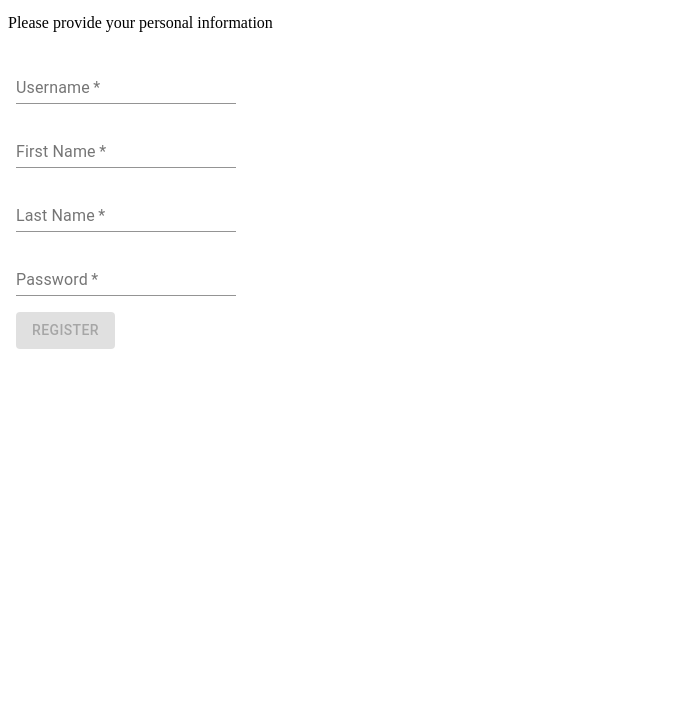
Test: RegisterForm testing › should alert with success
Type "text" into the field labelled "Username *" at (126, 88), box [16, 72, 236, 104]
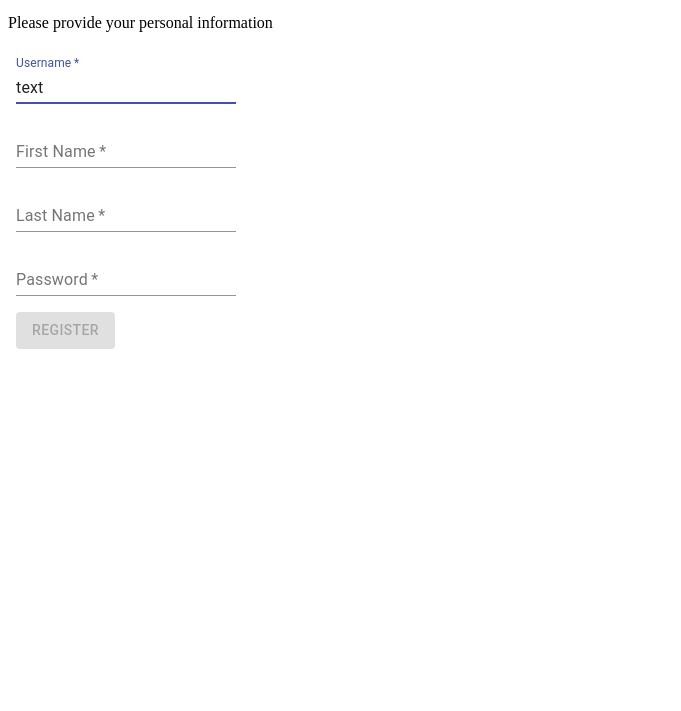
Type "text" into the field labelled "First Name *" at (126, 152), box [16, 136, 236, 168]
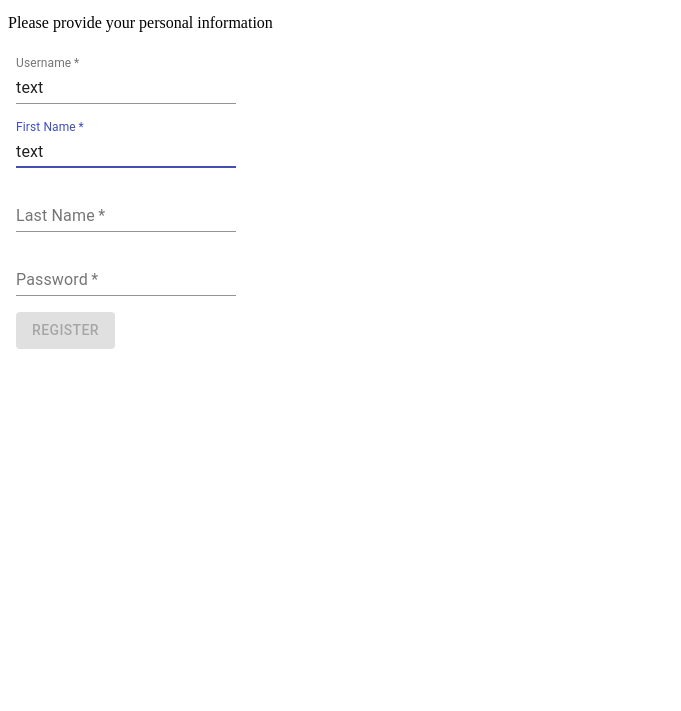
Type "text" into the field labelled "Last Name *" at (126, 216), box [16, 200, 236, 232]
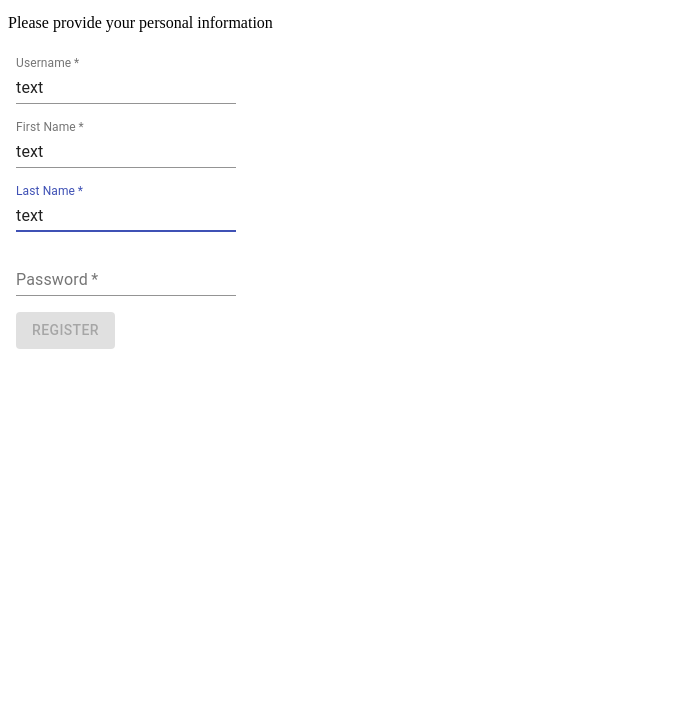
Type "text" into the password field labelled "Password *" at (126, 280), box [16, 264, 236, 296]
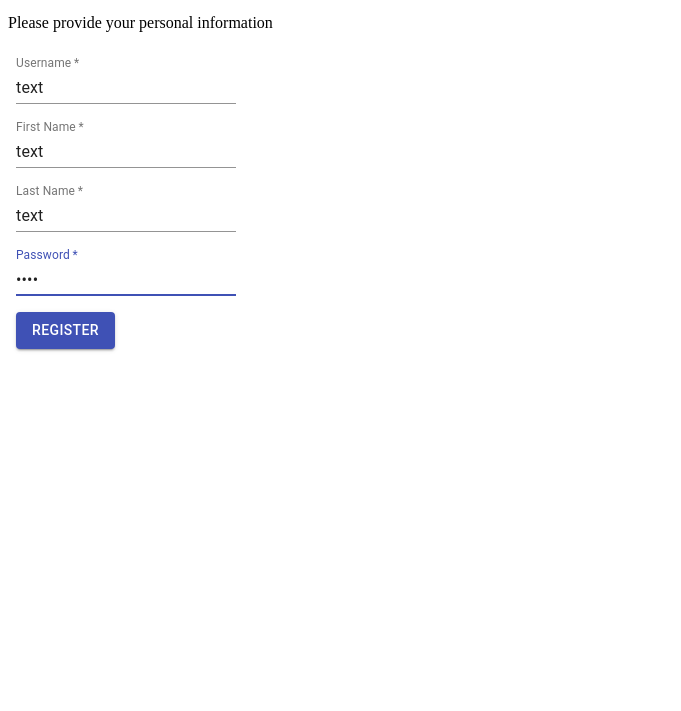
Click the button at (66, 330), box [16, 312, 115, 348]
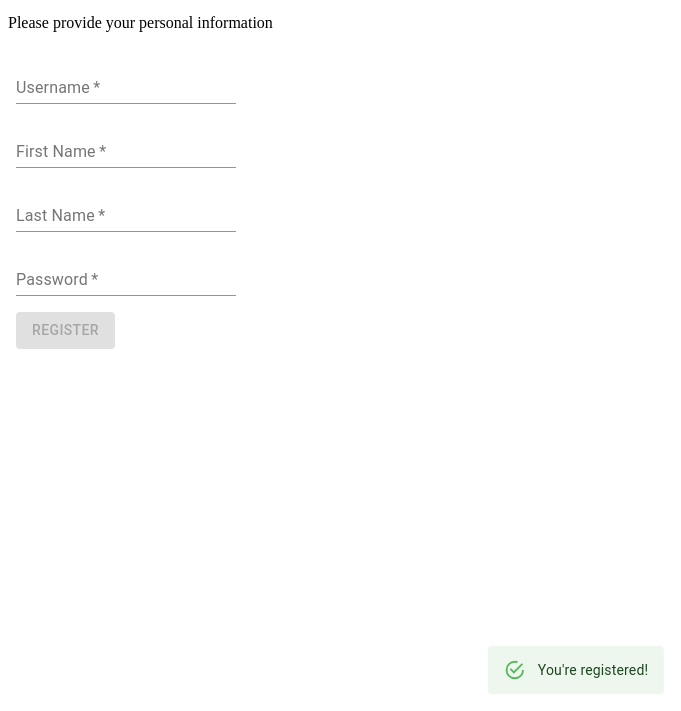
Result: the element with test id "register--success-alert" is shown at [488, 646, 664, 694]
